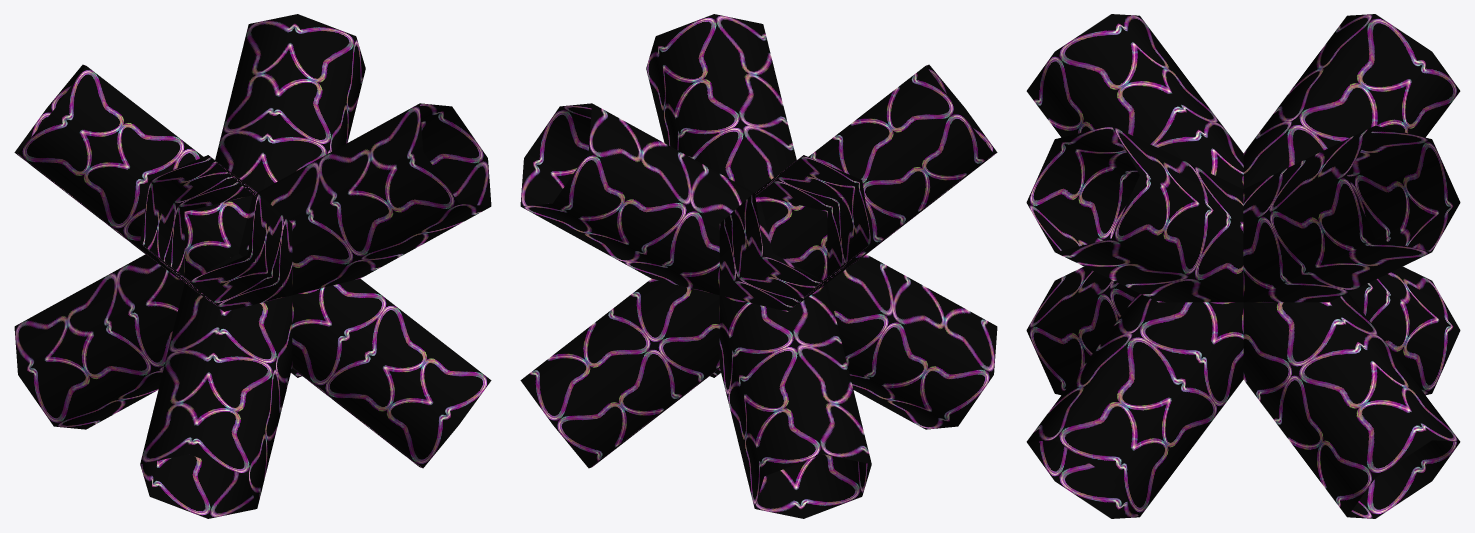
Rendered from Hexahemioctacron20.gltf.
3 views of the same model, side by side, from view 1: azimuth 30°, elevation 25°; view 2: azimuth 150°, elevation 25°; view 3: azimuth 270°, elevation 25° (orthographic). The views are drawn at different scales.
Parts seen in each view (by area): view 1: Hexahemioctacron1; view 2: Hexahemioctacron1; view 3: Hexahemioctacron1.
Boxes of the visible parts, x1,y1,x2,y2 form: Hexahemioctacron1: (14, 14, 491, 518); Hexahemioctacron1: (520, 14, 997, 518); Hexahemioctacron1: (1026, 14, 1460, 518).
Size of the model in its own units: 6.25 by 6.25 by 6.25.
Materials: 1 (1 with a texture image).
